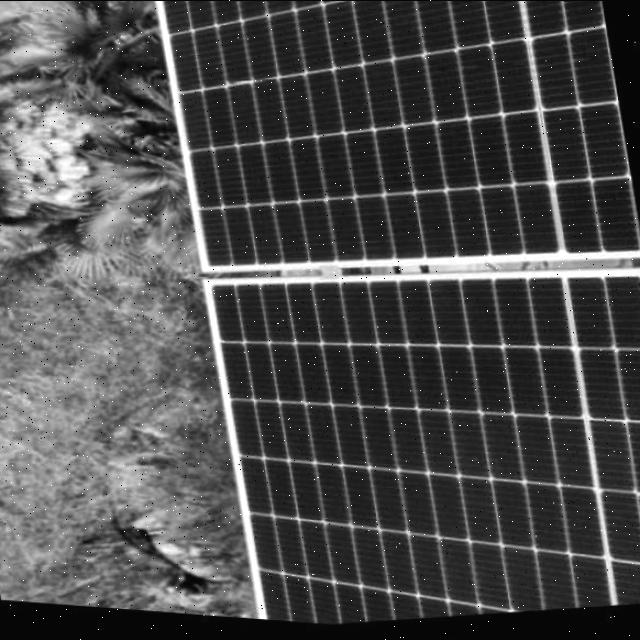Normal Solar Panel: (194, 225, 640, 640), (151, 1, 640, 315)
